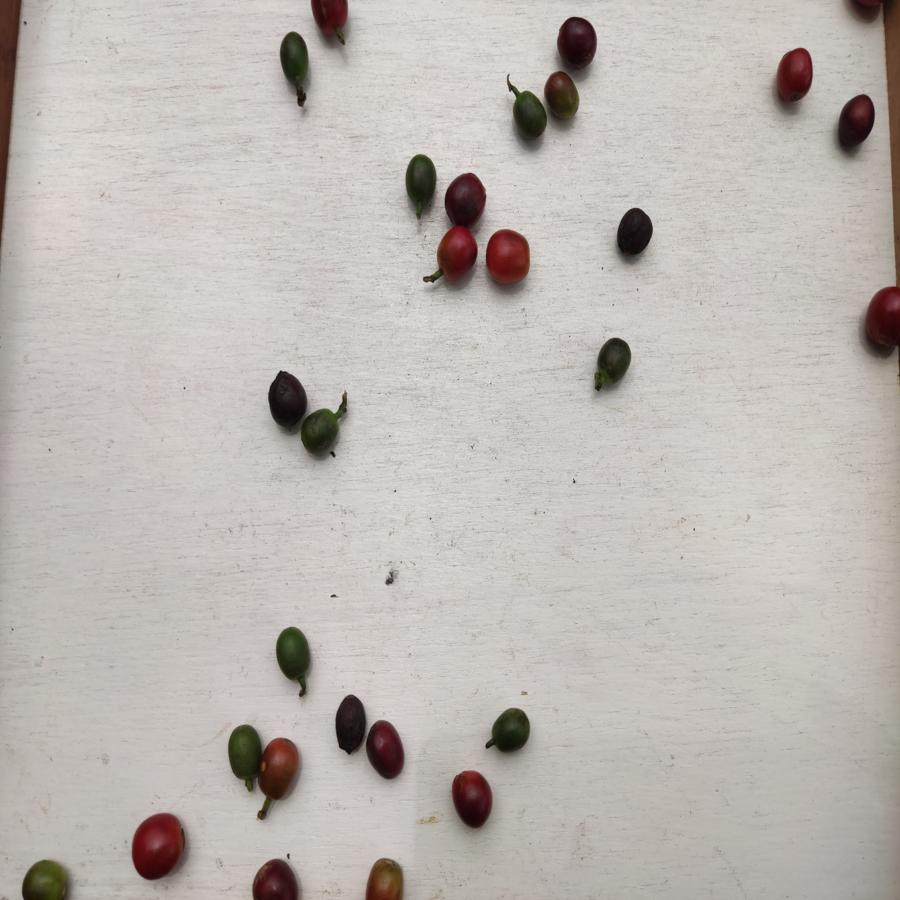Inmaduro: (273, 626, 315, 680), (509, 87, 548, 142), (224, 725, 260, 783), (402, 150, 438, 207), (594, 338, 636, 385), (489, 707, 530, 755), (278, 28, 312, 85), (302, 409, 342, 454)
Maduro: (129, 810, 190, 880), (483, 228, 533, 290), (864, 286, 900, 355), (775, 45, 815, 104), (435, 228, 478, 281), (309, 1, 353, 41)
Pinton: (260, 735, 301, 802), (17, 858, 71, 900), (544, 69, 583, 120), (362, 858, 409, 900)
Sobremaduro: (447, 768, 498, 830), (365, 717, 407, 782), (446, 170, 488, 227), (835, 93, 877, 150), (266, 371, 306, 428), (556, 14, 598, 68), (332, 694, 368, 754), (613, 208, 656, 258), (250, 859, 302, 900)
